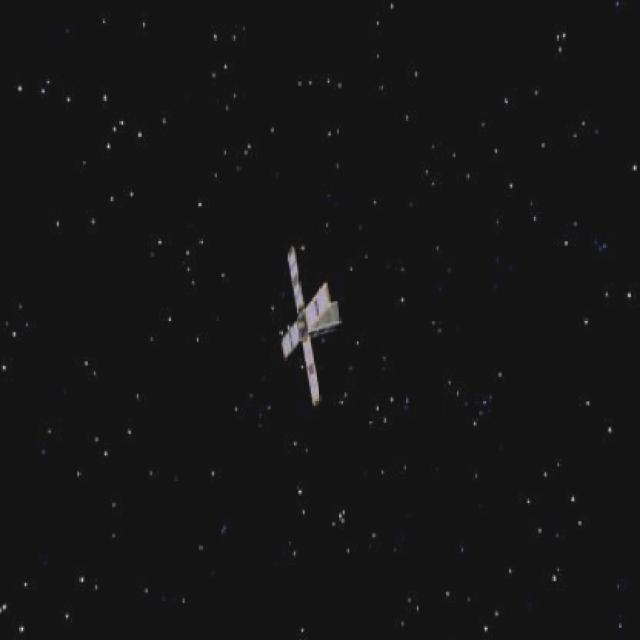medium_debris: (265, 246, 353, 412)
